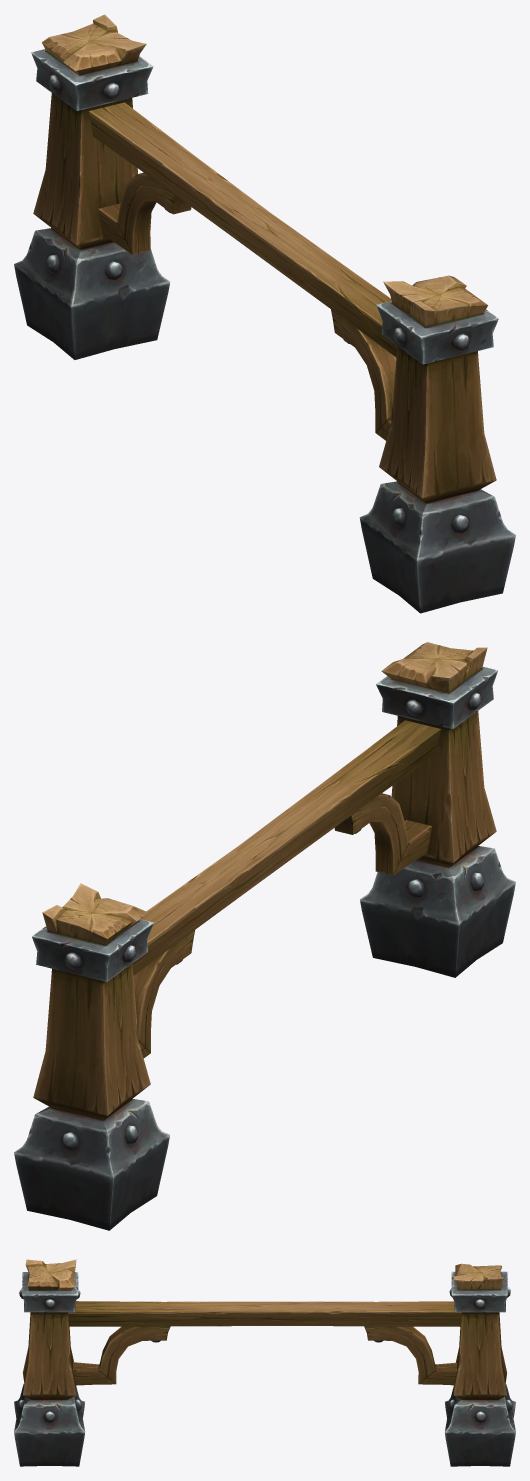
The picture shows the model from 3 angles, top to bottom: view 1: azimuth 30°, elevation 25°; view 2: azimuth 150°, elevation 25°; view 3: azimuth 270°, elevation 25°; orthographic projection. The views are drawn at different scales.
Bounding box in the file's own units: 0.8632 × 2.47 × 6.06.
Materials: 1 (1 with a texture image).
